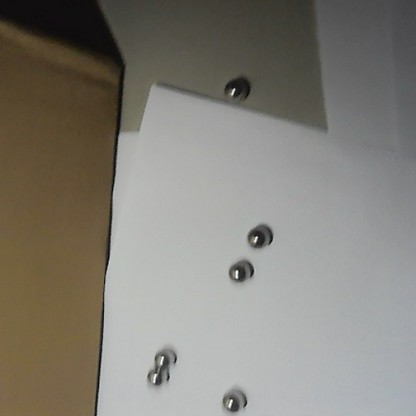ironball: (222, 75, 252, 103), (222, 386, 251, 414), (144, 366, 173, 392), (227, 259, 255, 283), (246, 225, 271, 251), (152, 344, 176, 367)
